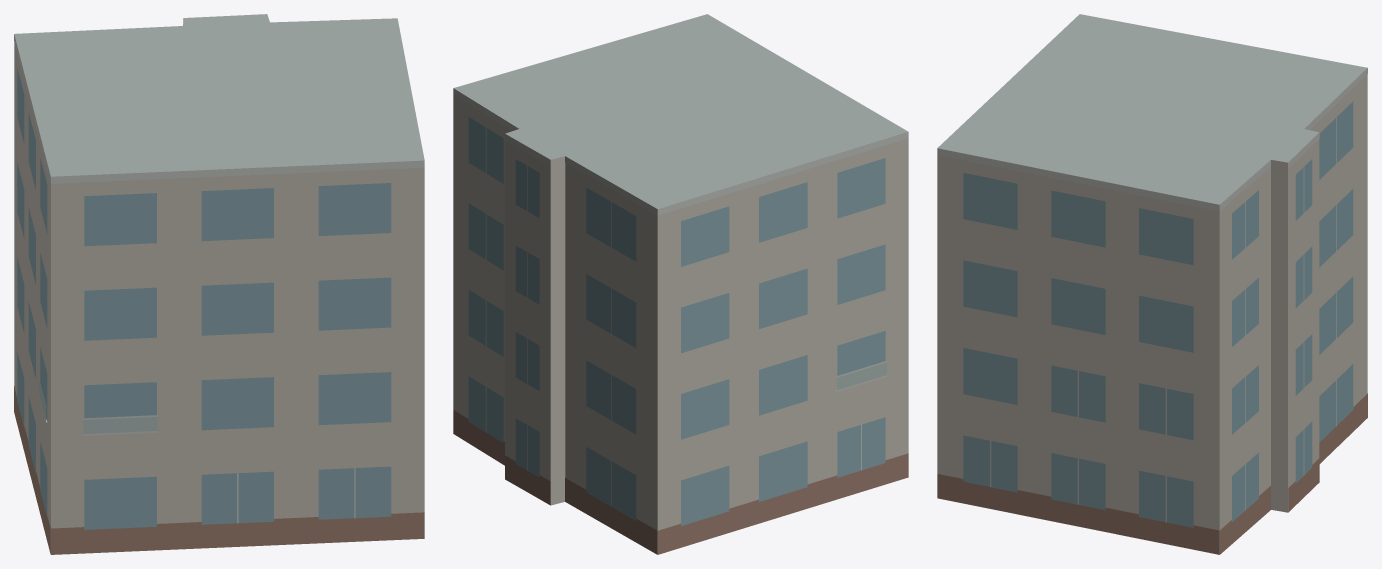
Rendered from survey-upis-32532909.glb.
The picture shows the model from 3 angles, left to right: view 1: azimuth 30°, elevation 25°; view 2: azimuth 150°, elevation 25°; view 3: azimuth 270°, elevation 25°; orthographic projection. The views are drawn at different scales.
Parts seen in each view (by area): view 1: survey-upis-32532909.tmp; view 2: survey-upis-32532909.tmp; view 3: survey-upis-32532909.tmp.
Part boxes in pixels (left/top/right/bottom): survey-upis-32532909.tmp: left=14, top=14, right=424, bottom=554; survey-upis-32532909.tmp: left=453, top=14, right=908, bottom=554; survey-upis-32532909.tmp: left=937, top=14, right=1367, bottom=554.
Bounding box in the file's own units: 15.21 × 13 × 14.49.
